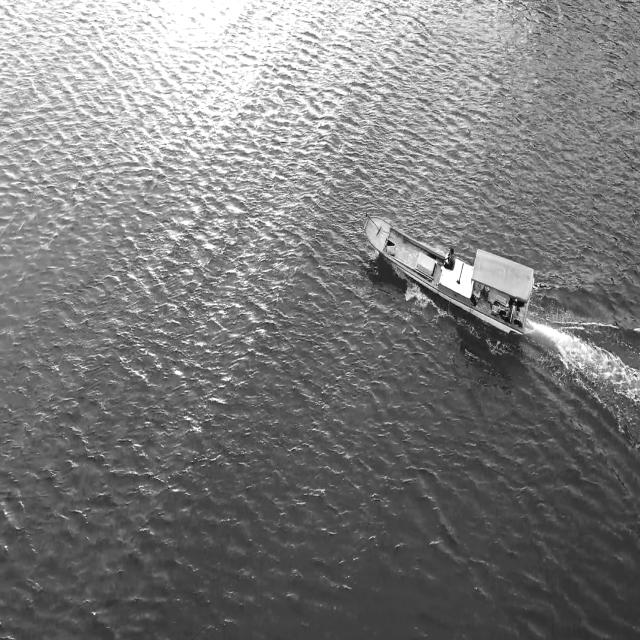ship: (359, 200, 536, 339)
